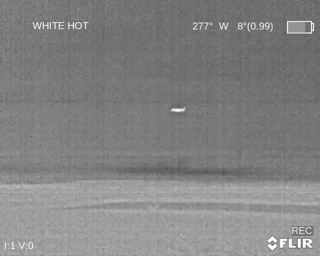AIRPLANE: (169, 105, 187, 114)
